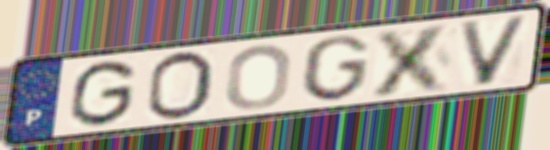G: (66, 57, 141, 129), (299, 32, 372, 104)
O: (143, 49, 215, 124), (223, 42, 296, 112)
V: (454, 13, 534, 88)
X: (367, 20, 458, 99)
